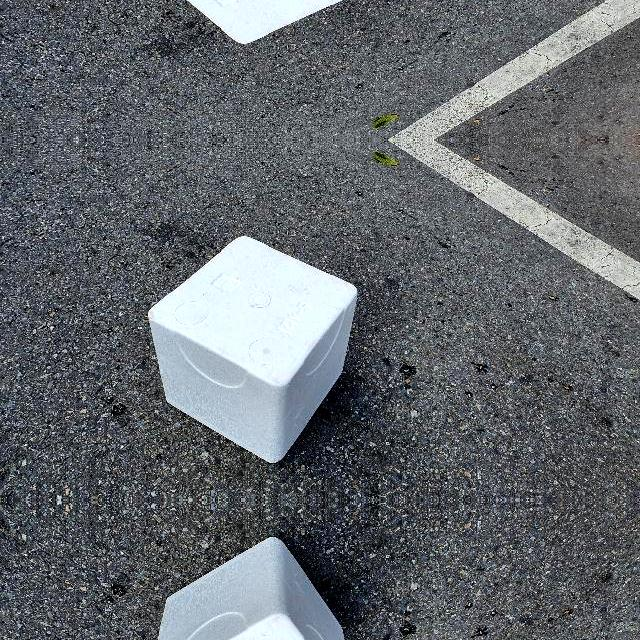Styrofoam: (148, 235, 358, 463), (148, 236, 357, 463), (147, 537, 358, 640), (158, 537, 345, 640)
